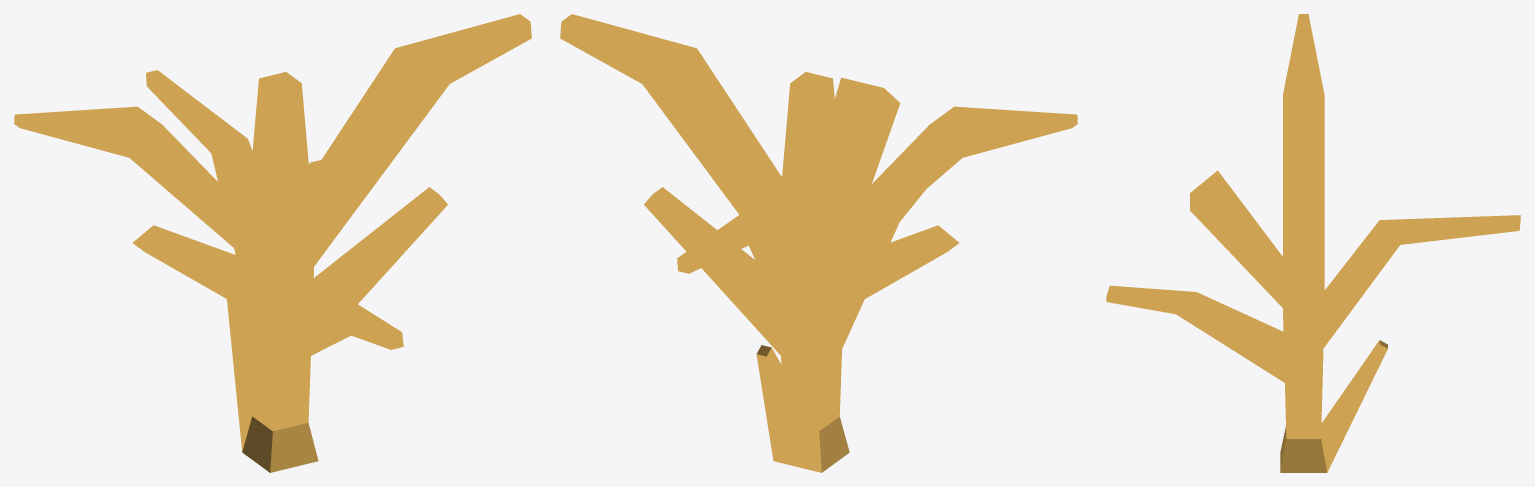
The model's file is CoralYellow.glb.
3 views of the same model, side by side, from view 1: azimuth 30°, elevation 25°; view 2: azimuth 150°, elevation 25°; view 3: azimuth 270°, elevation 25° (orthographic). The views are drawn at different scales.
Parts seen in each view (by area): view 1: Cube; view 2: Cube; view 3: Cube.
Part boxes in pixels (x1,y1,x2,y2): Cube: [14, 14, 531, 472]; Cube: [560, 14, 1077, 472]; Cube: [1106, 14, 1520, 472].
Bounding box in the file's own units: 2.83 × 2.14 × 2.36.
